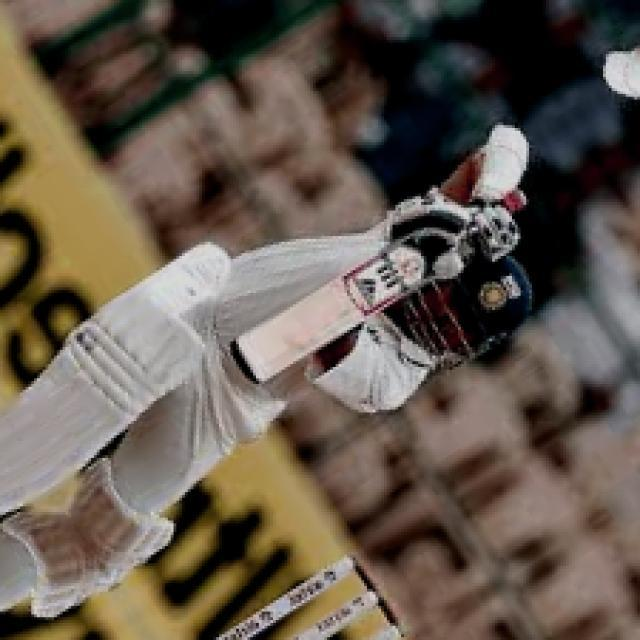bat: (228, 239, 446, 390)
toe: (230, 342, 263, 384)
